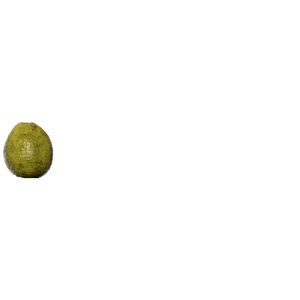goiaba: (1, 120, 55, 179)
